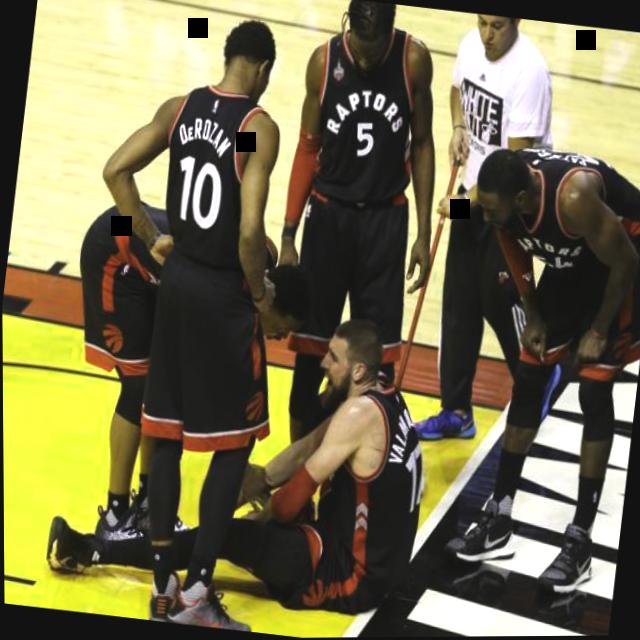Fall-Detected: (28, 256, 466, 640)
